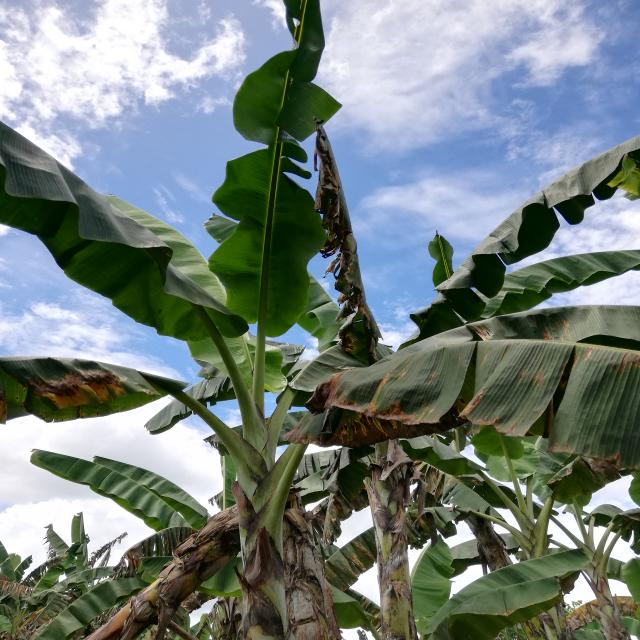Banana-plant: (200, 409, 310, 640), (356, 428, 422, 640)
